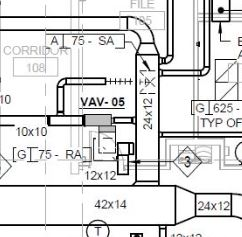VAV: (83, 105, 120, 136)
